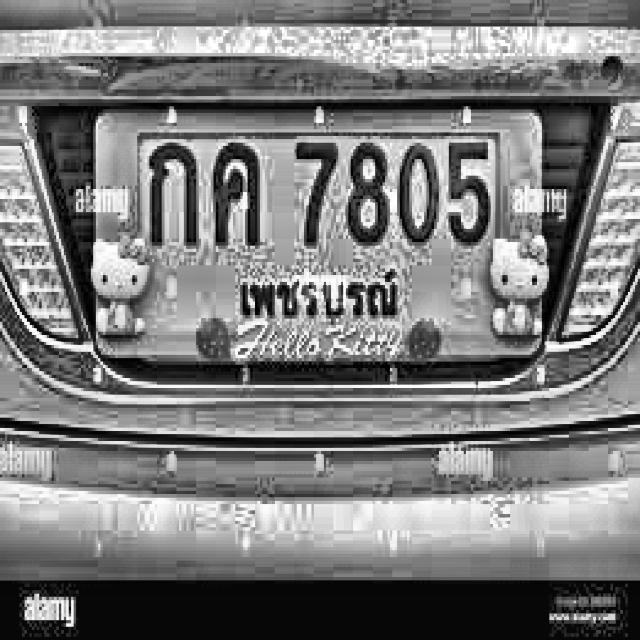license-plate: (63, 82, 556, 396)
